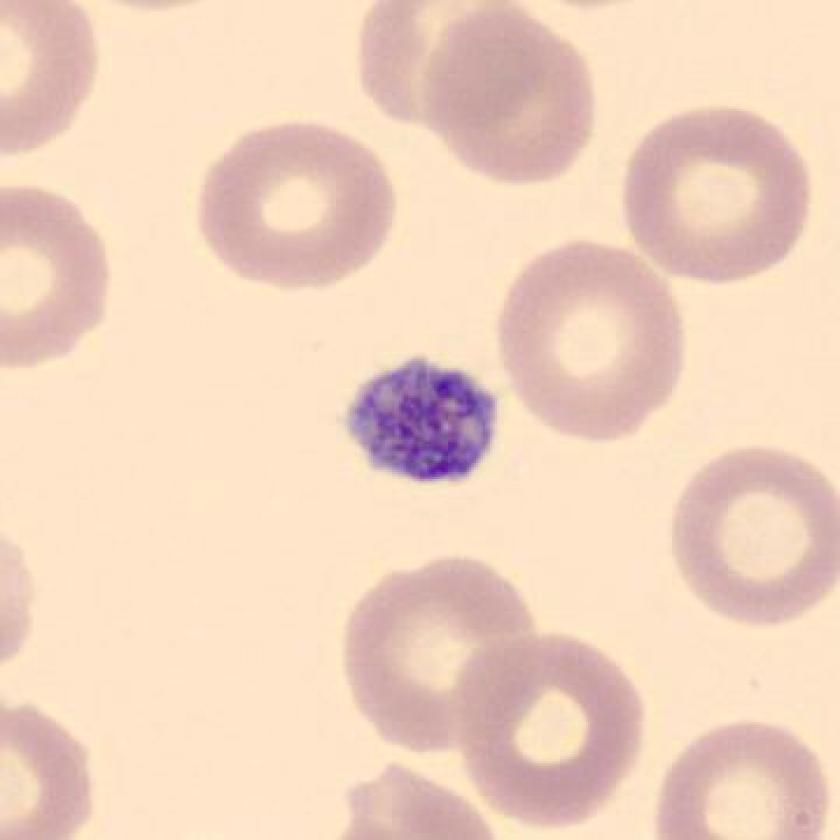platelets: (332, 341, 512, 503)
